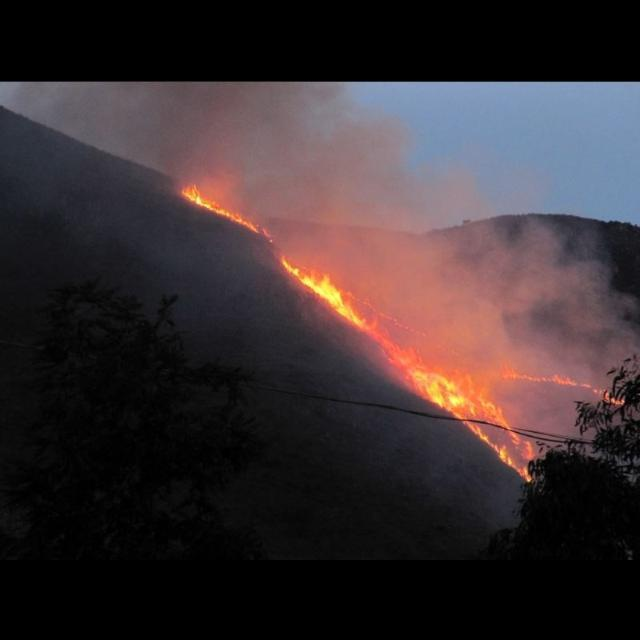Fire: (399, 369, 638, 489), (280, 253, 367, 337), (180, 182, 272, 238)
Smoke: (6, 81, 640, 178), (367, 254, 640, 376), (270, 179, 640, 252)
